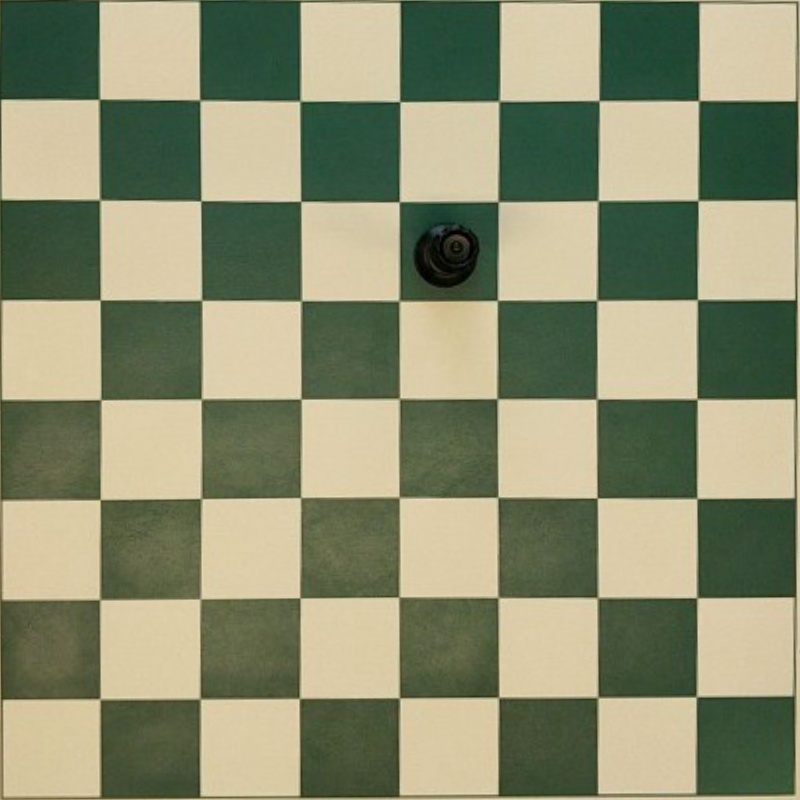black-queen: (415, 224, 479, 287)
